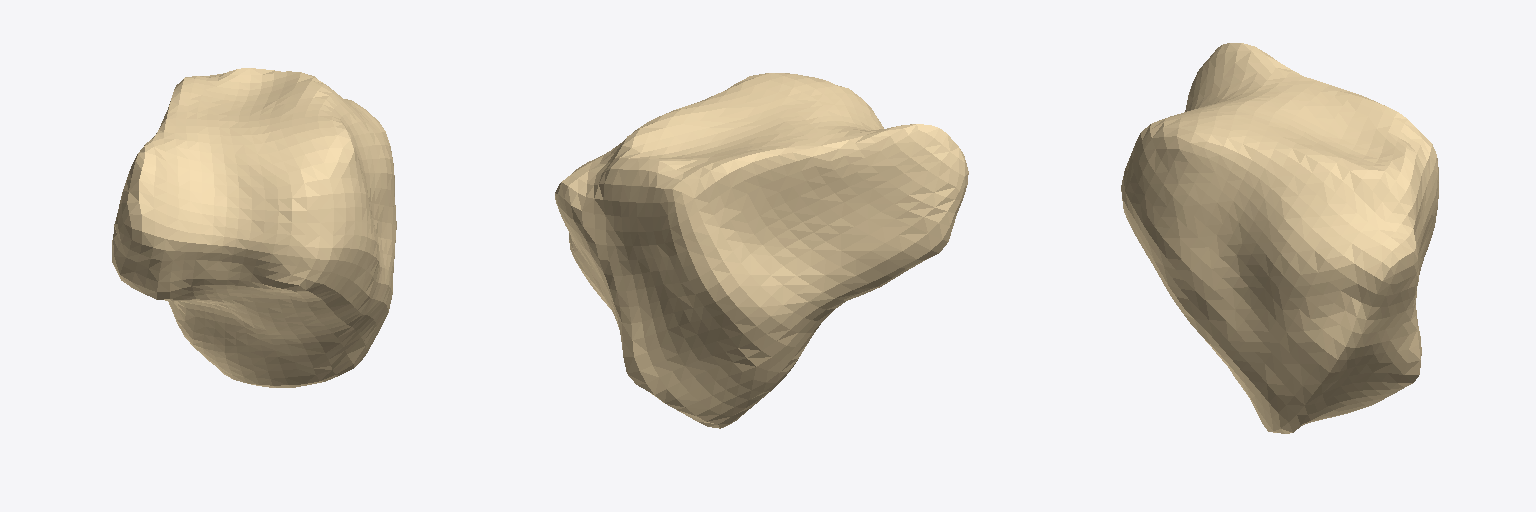
The model's file is Cuboid.obj.
The picture shows the model from 3 angles: view 1: azimuth 30°, elevation 25°; view 2: azimuth 150°, elevation 25°; view 3: azimuth 270°, elevation 25°; orthographic projection.
Parts seen in each view (by area): view 1: Object_0Cuboid; view 2: Object_0Cuboid; view 3: Object_0Cuboid.
Boxes of the visible parts, <box> form: Object_0Cuboid: <box>112,68,396,387</box>; Object_0Cuboid: <box>555,73,968,428</box>; Object_0Cuboid: <box>1121,43,1438,433</box>.
Bounding box in the file's own units: 37.96 × 32.99 × 31.79.